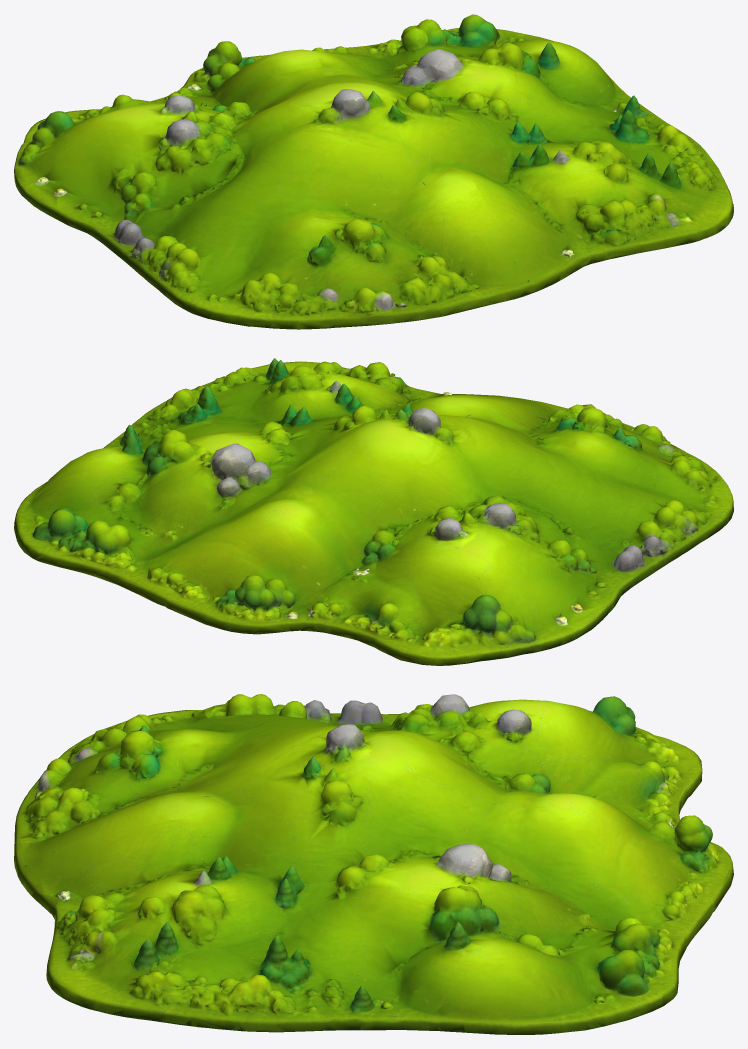
Rendered from Background hills.glb.
3 views of the same model, one above another, from view 1: azimuth 30°, elevation 25°; view 2: azimuth 150°, elevation 25°; view 3: azimuth 270°, elevation 25° (orthographic). The views are drawn at different scales.
Bounding box in the file's own units: 1.9 × 0.3566 × 1.81.
1 material, 1 textured.
